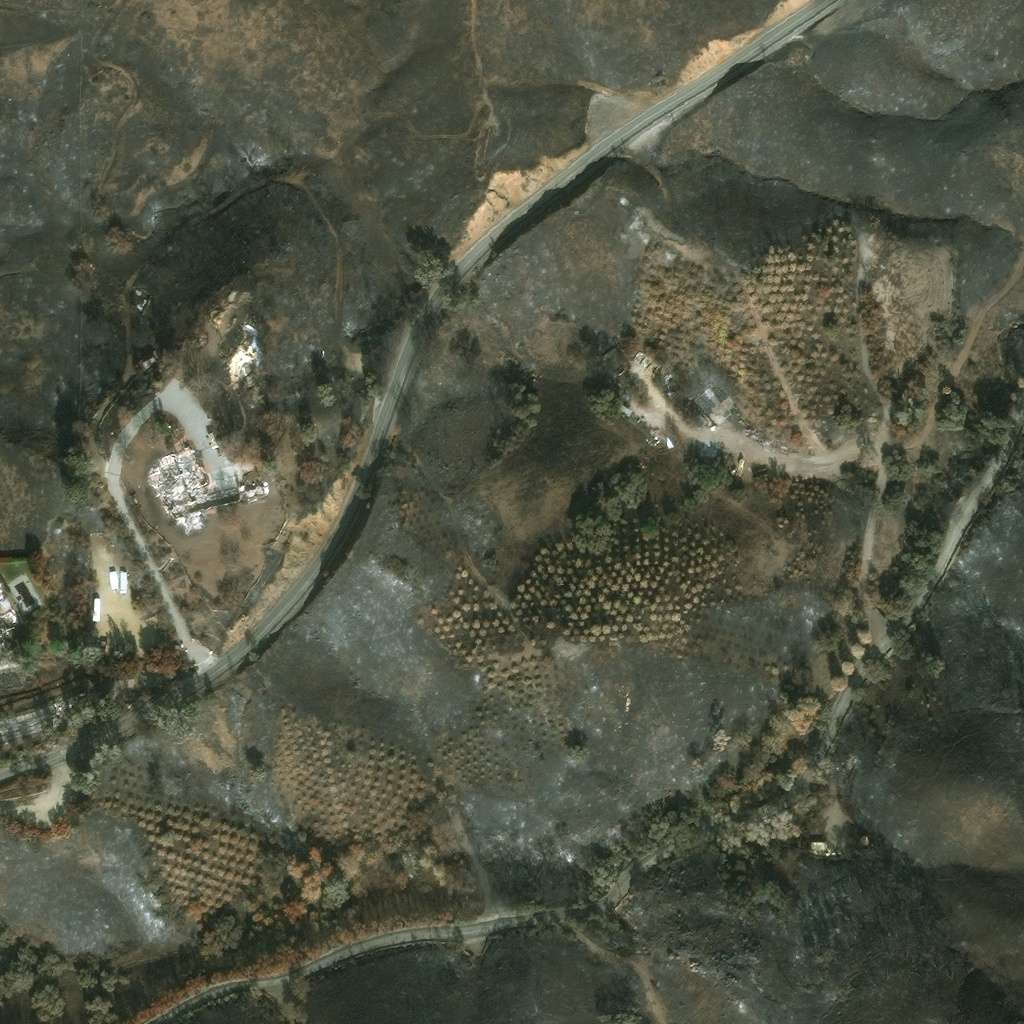2 major-damage: (141, 353, 157, 367), (810, 839, 827, 848), (858, 833, 868, 843)
3 destroyed: (150, 448, 204, 525), (0, 702, 58, 742), (203, 477, 265, 510), (699, 387, 732, 424), (709, 385, 736, 414), (0, 606, 21, 633), (632, 349, 655, 369), (693, 393, 712, 417), (72, 693, 87, 704), (804, 469, 815, 484), (123, 689, 136, 701), (0, 586, 5, 597), (136, 300, 141, 306)
